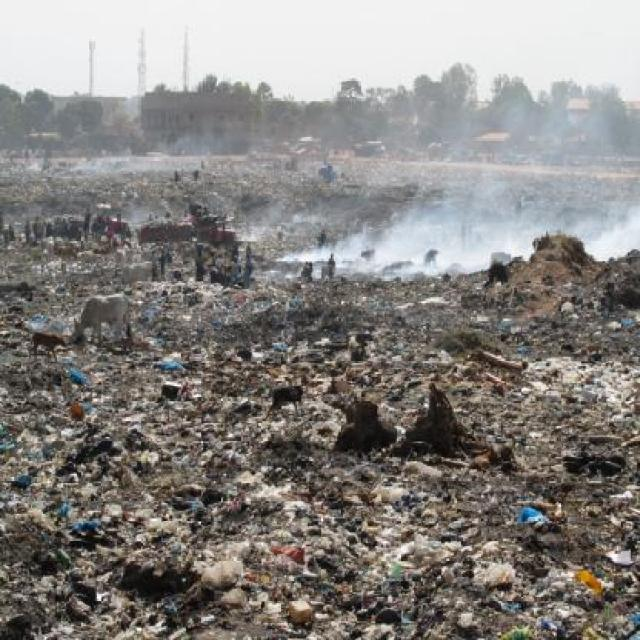garbage: (148, 466, 606, 622), (3, 362, 198, 620), (438, 332, 640, 454), (197, 291, 448, 386), (5, 257, 124, 294)
